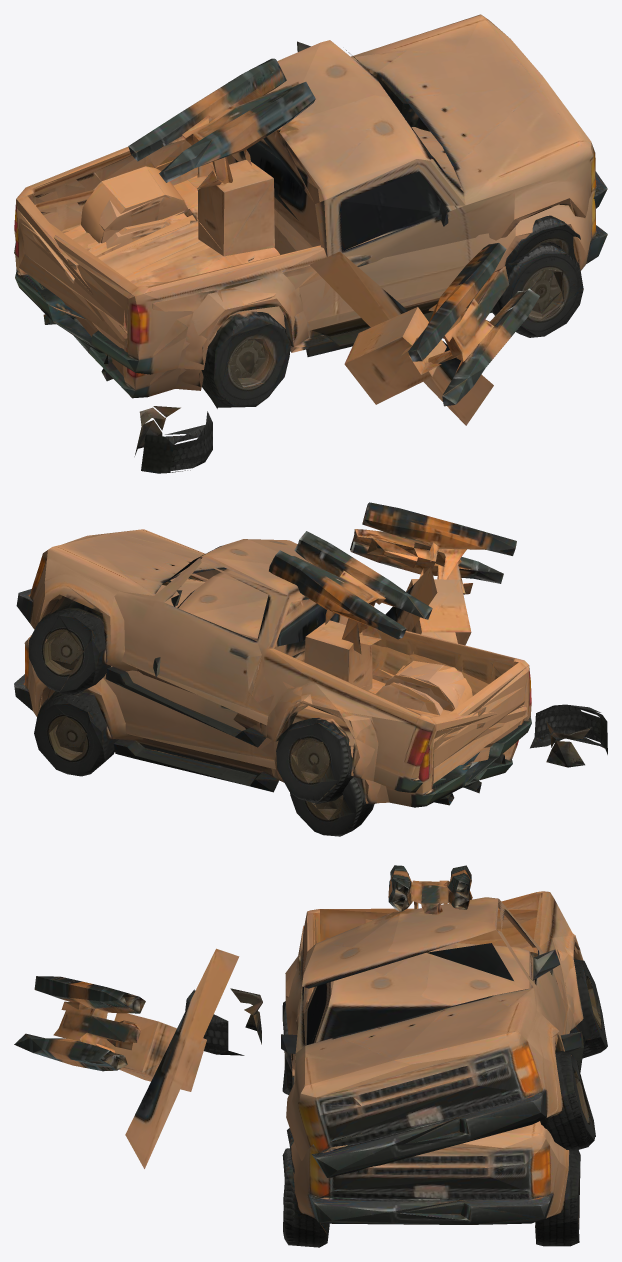
The model's file is gun_truck.glb.
3 renders of one model, top to bottom at view 1: azimuth 30°, elevation 25°; view 2: azimuth 150°, elevation 25°; view 3: azimuth 270°, elevation 25°, orthographic. The views are drawn at different scales.
Visible parts, largest first — view 1: WRECK_hull_hull, hull_hull, WRECK_turret_metal, turret_metal, hull_rubber, hull_glass, WRECK_hull_metal, WRECK_hull_glass, WRECK_hull_rubber, hull_metal; view 2: WRECK_hull_hull, hull_hull, turret_metal, WRECK_turret_metal, WRECK_hull_rubber, hull_rubber, WRECK_hull_metal, hull_metal, hull_glass; view 3: WRECK_hull_hull, hull_hull, WRECK_turret_metal, WRECK_hull_metal, hull_metal, WRECK_hull_rubber, hull_glass, turret_metal, hull_rubber, WRECK_hull_glass.
Part boxes in pixels (x1,y1,x2,y2): WRECK_hull_hull: [14, 14, 598, 473]; hull_hull: [15, 126, 598, 405]; WRECK_turret_metal: [310, 243, 539, 425]; turret_metal: [128, 58, 319, 256]; hull_rubber: [220, 269, 583, 407]; hull_glass: [227, 131, 449, 229]; WRECK_hull_metal: [99, 151, 607, 250]; WRECK_hull_glass: [297, 41, 436, 251]; WRECK_hull_rubber: [153, 240, 575, 470]; hull_metal: [103, 222, 607, 255]; WRECK_hull_hull: [30, 529, 607, 804]; hull_hull: [24, 569, 531, 835]; turret_metal: [269, 531, 432, 690]; WRECK_turret_metal: [350, 502, 516, 645]; WRECK_hull_rubber: [28, 614, 603, 802]; hull_rubber: [34, 705, 355, 836]; WRECK_hull_metal: [16, 589, 439, 715]; hull_metal: [14, 674, 454, 711]; hull_glass: [153, 596, 326, 677]; WRECK_hull_hull: [194, 891, 605, 1177]; hull_hull: [282, 908, 580, 1233]; WRECK_turret_metal: [14, 948, 239, 1168]; WRECK_hull_metal: [311, 952, 546, 1177]; hull_metal: [308, 1191, 553, 1224]; WRECK_hull_rubber: [185, 988, 607, 1152]; hull_glass: [281, 954, 582, 1053]; turret_metal: [388, 865, 472, 914]; hull_rubber: [282, 1051, 580, 1247]; WRECK_hull_glass: [302, 943, 560, 1004].
Size of the model in its own units: 5.79 by 2.95 by 5.55.
1 material, 1 textured.
